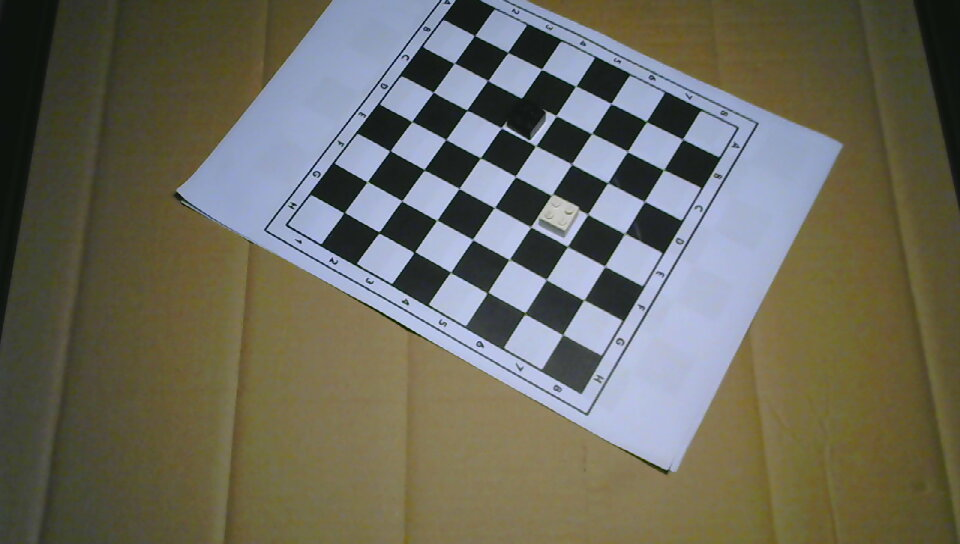bp: (504, 101, 546, 140)
wp: (536, 195, 579, 237)
